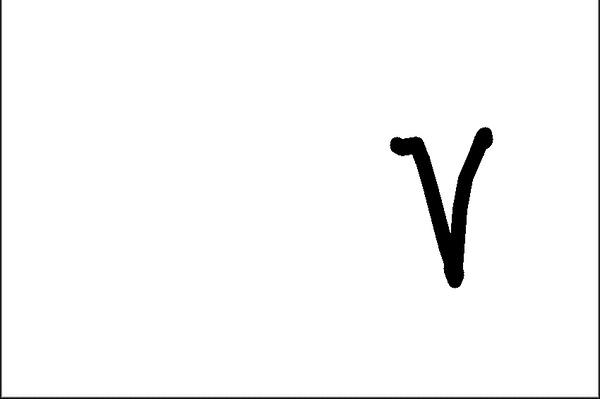V: (379, 127, 504, 291)
